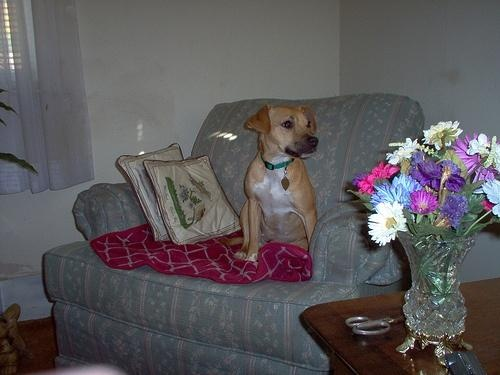dog: (230, 103, 318, 264)
